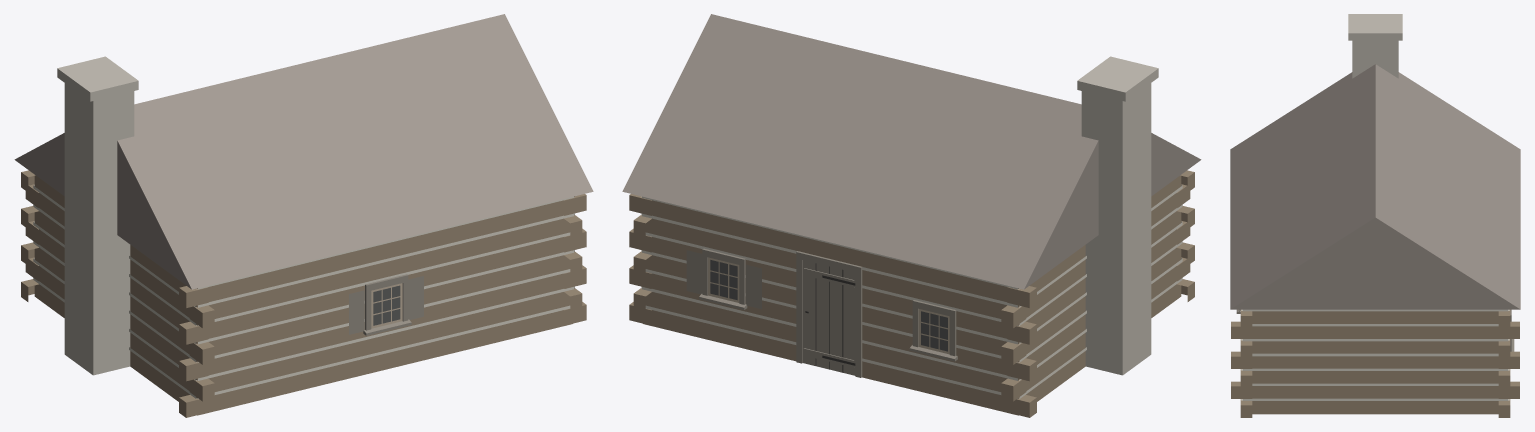
The model's file is chappel_infant_school__log_1833.glb.
The picture shows the model from 3 angles, left to right: view 1: azimuth 30°, elevation 25°; view 2: azimuth 150°, elevation 25°; view 3: azimuth 270°, elevation 25°; orthographic projection. The views are drawn at different scales.
Visible parts, largest first — view 1: chappel_infant_school__log_1833; view 2: chappel_infant_school__log_1833; view 3: chappel_infant_school__log_1833.
Boxes of the visible parts, x1,y1,x2,y2 form: chappel_infant_school__log_1833: (14,14,593,417); chappel_infant_school__log_1833: (622,14,1201,417); chappel_infant_school__log_1833: (1230,14,1520,417).
Size of the model in its own units: 8.39 by 5.32 by 5.99.
